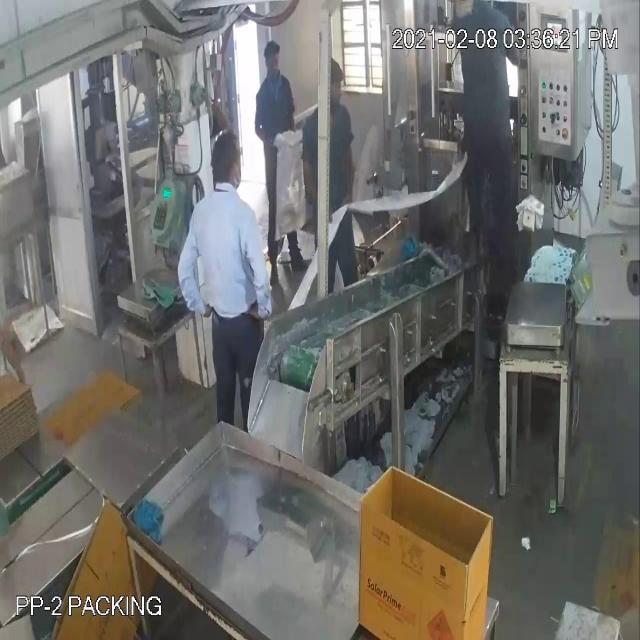No_Gloves: (37, 81, 260, 278)
